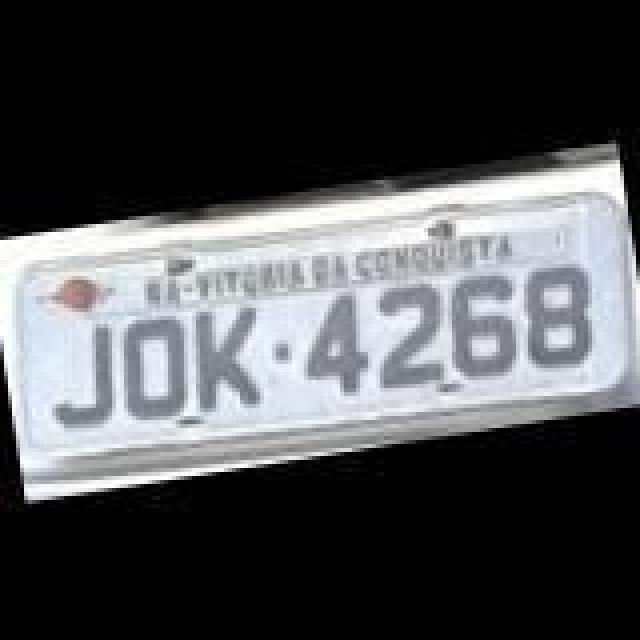2: (360, 272, 456, 384)
4: (286, 272, 370, 400)
6: (436, 262, 524, 378)
8: (514, 250, 606, 382)
J: (36, 316, 124, 436)
K: (176, 280, 272, 424)
O: (110, 302, 194, 426)
